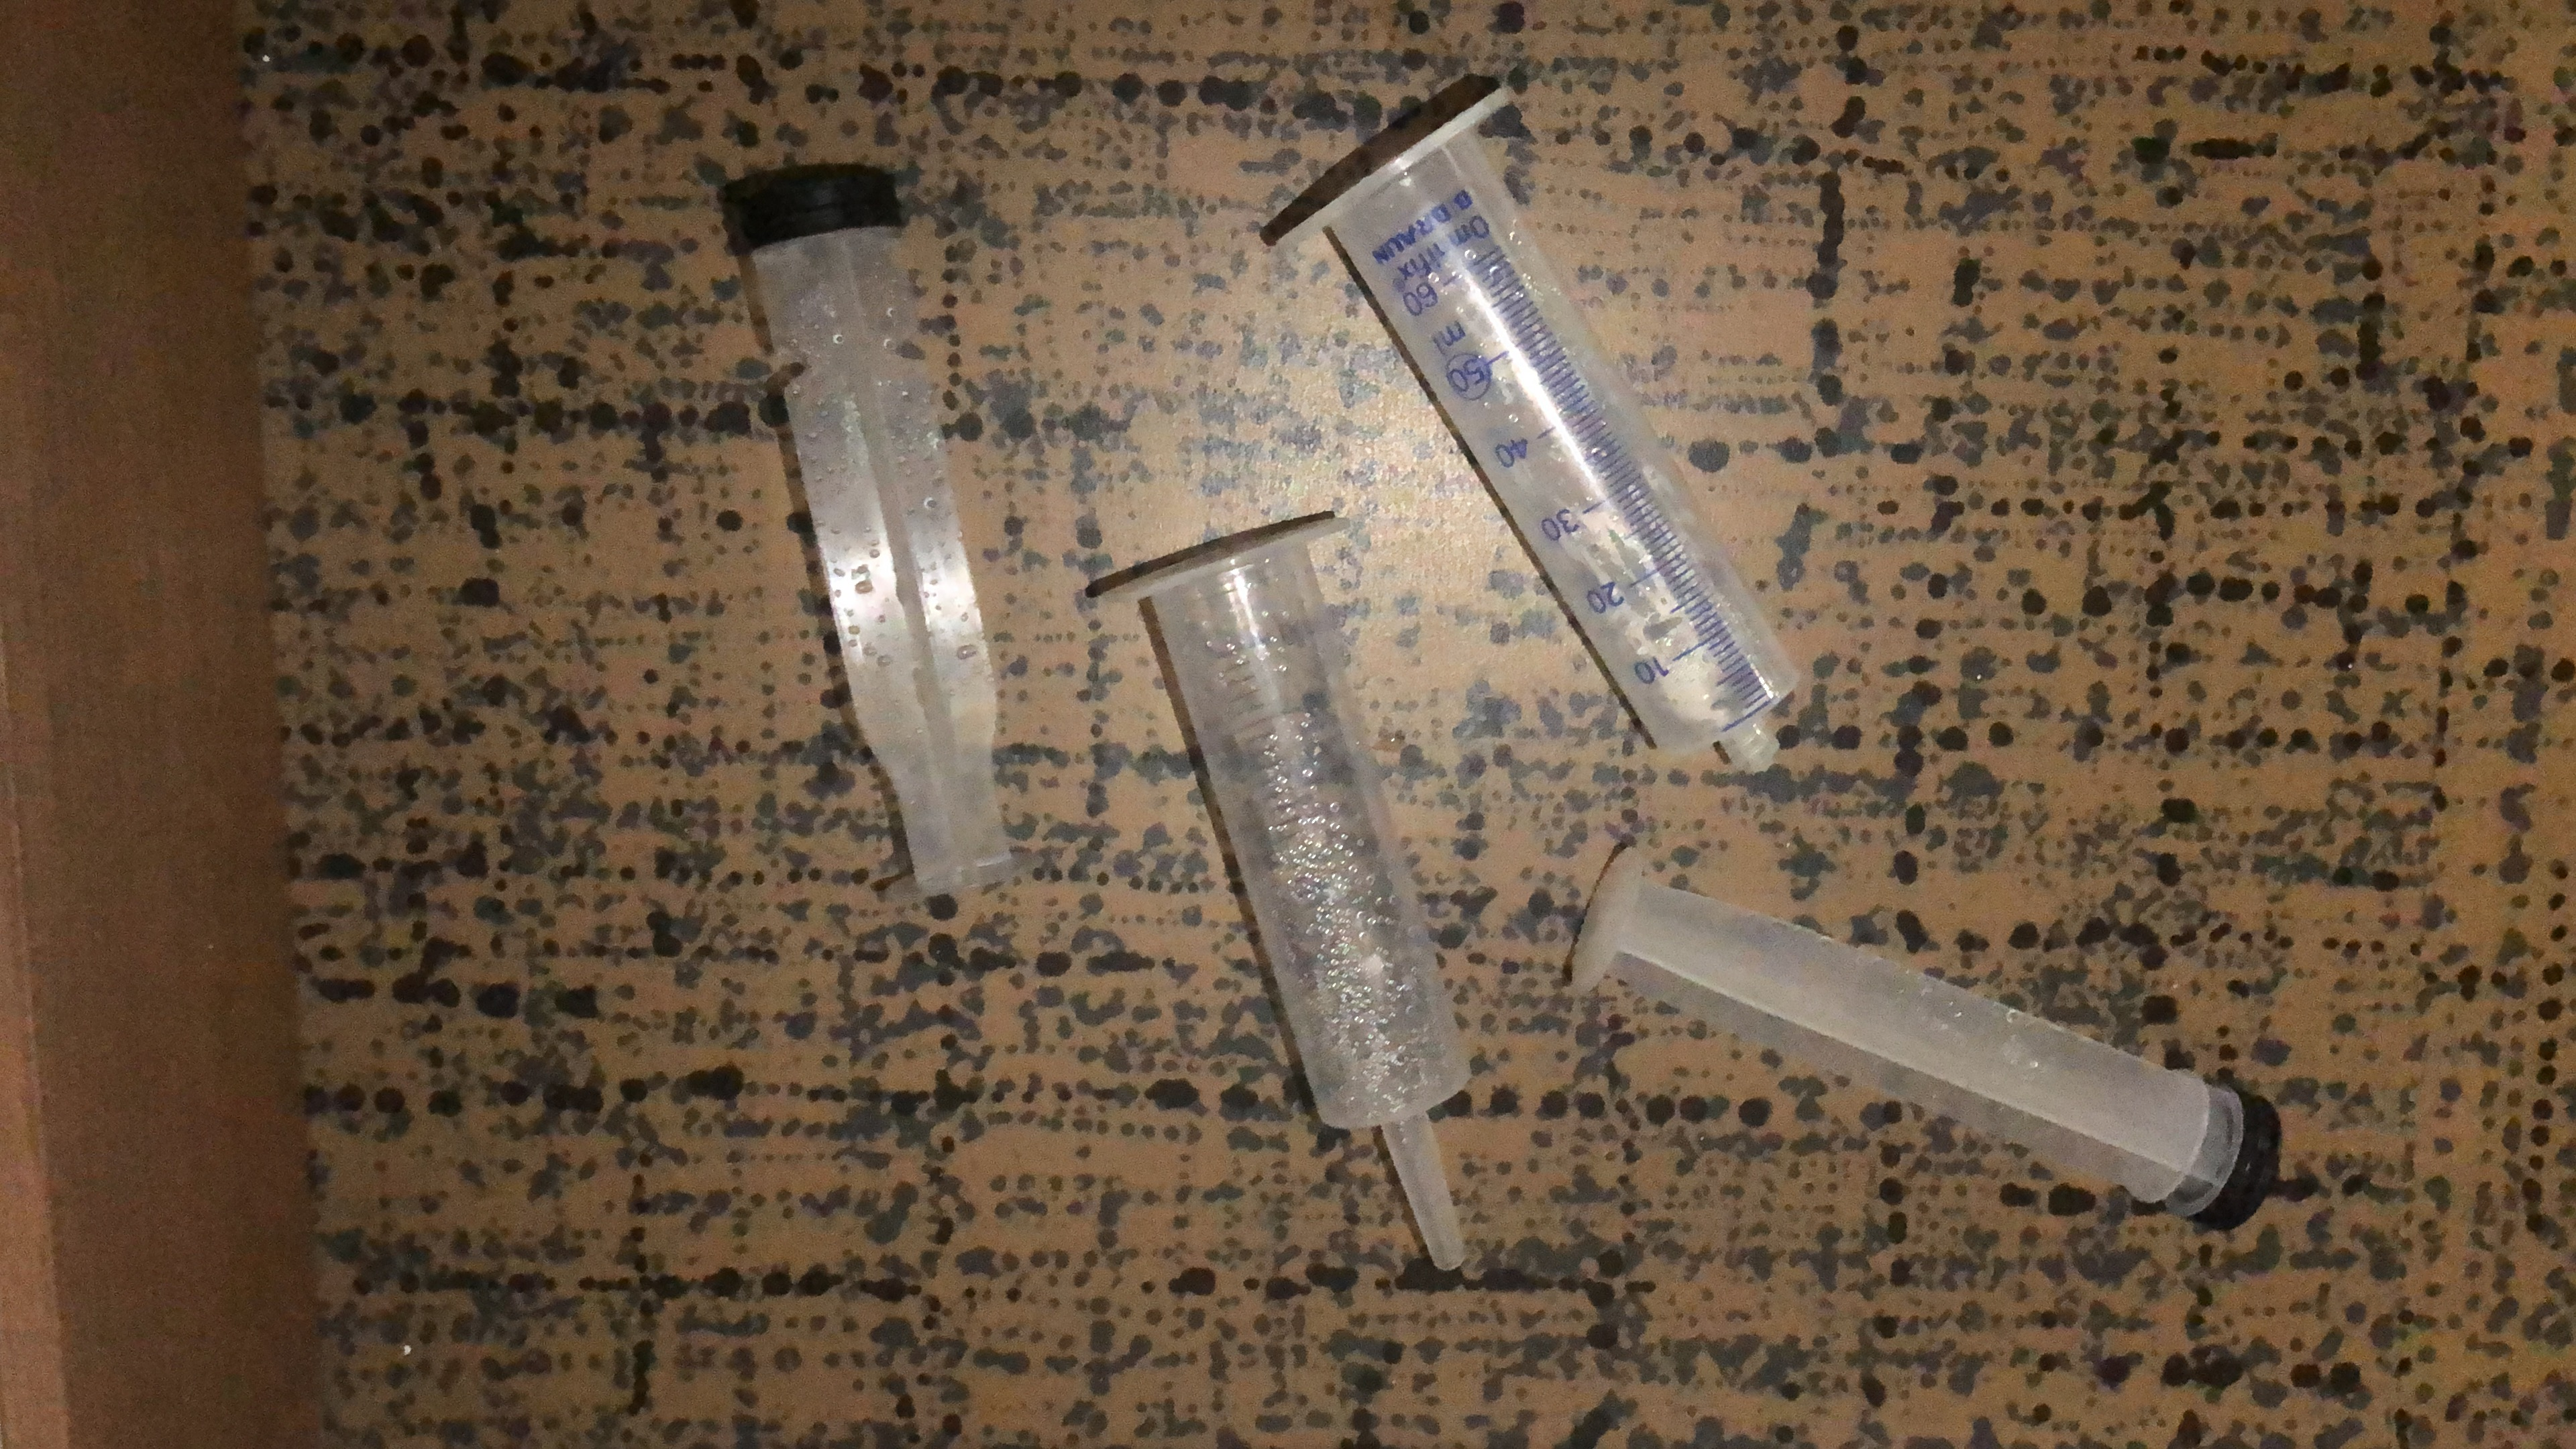plunger: (1557, 837, 2288, 1235), (711, 161, 1069, 904)
syringe: (1261, 81, 1821, 780), (1085, 518, 1488, 1281)
